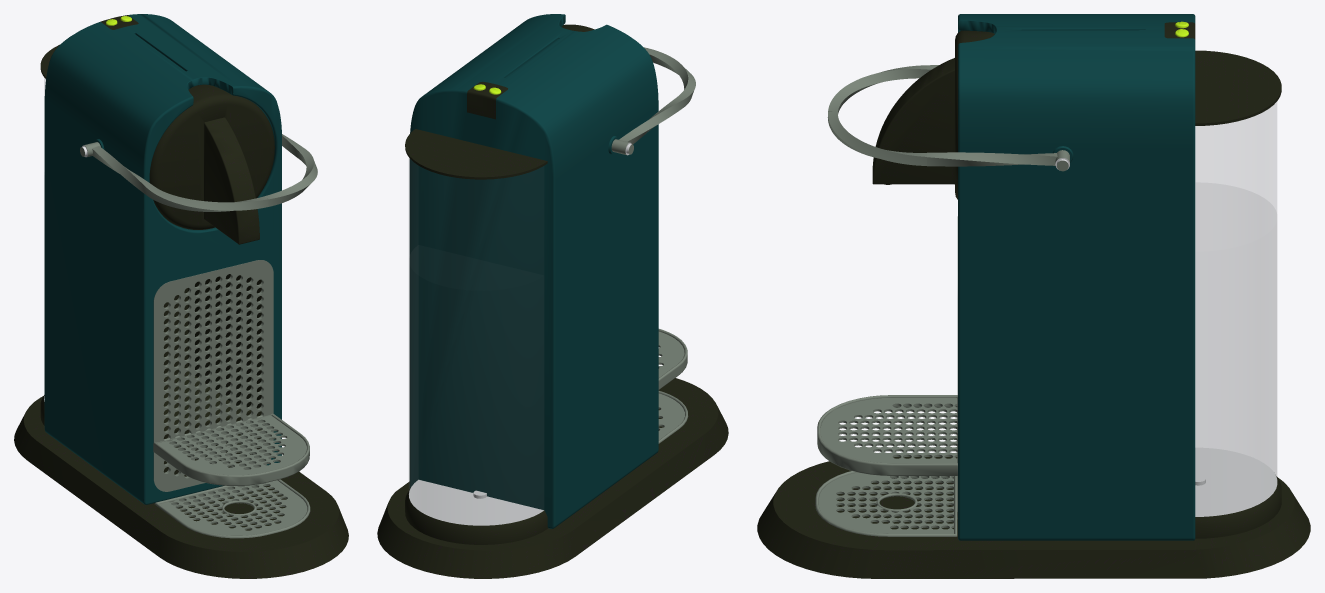
The model's file is nespresso_machine_2.glb.
3 views of the same model, side by side, from view 1: azimuth 30°, elevation 25°; view 2: azimuth 150°, elevation 25°; view 3: azimuth 270°, elevation 25° (orthographic). The views are drawn at different scales.
Parts seen in each view (by area): view 1: geo1_plastic_0; view 2: geo1_plastic_0, geo1_glass_0; view 3: geo1_plastic_0, geo1_glass_0.
Part boxes in pixels (x1,y1,x2,y2): geo1_plastic_0: (14,14,348,578); geo1_plastic_0: (377,14,728,578); geo1_glass_0: (409,158,418,490); geo1_plastic_0: (757,14,1310,578); geo1_glass_0: (1196,102,1276,476).
Bounding box in the file's own units: 0.00506 × 0.0116 × 0.0117.
Materials: 3 (3 with a texture image).
